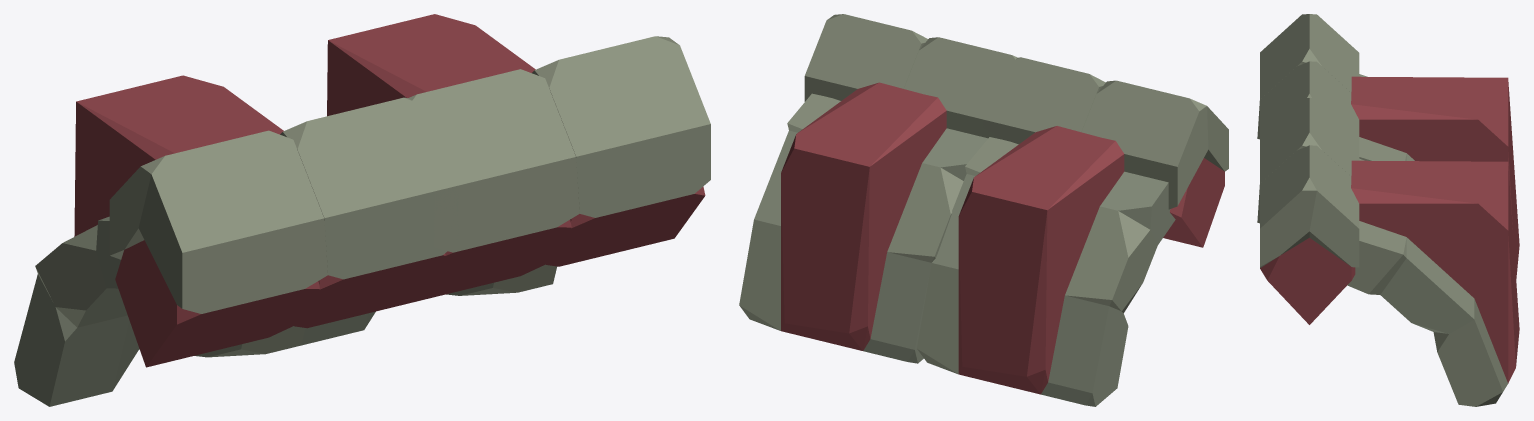
File: bridge_element_support_end_1x1x1.fbx
3 renders of one model, left to right at view 1: azimuth 30°, elevation 25°; view 2: azimuth 150°, elevation 25°; view 3: azimuth 270°, elevation 25°, orthographic. The views are drawn at different scales.
Parts seen in each view (by area): view 1: bridge_element_support_end_1x1x1; view 2: bridge_element_support_end_1x1x1; view 3: bridge_element_support_end_1x1x1.
Boxes of the visible parts, x1,y1,x2,y2 form: bridge_element_support_end_1x1x1: [14, 14, 710, 406]; bridge_element_support_end_1x1x1: [739, 14, 1228, 406]; bridge_element_support_end_1x1x1: [1257, 14, 1519, 406].
Size of the model in its own units: 216 by 126 by 132.
